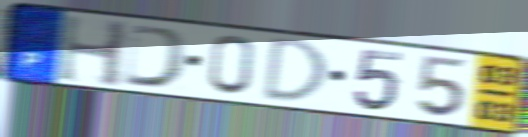0: (207, 34, 258, 97)
5: (351, 47, 407, 112), (416, 53, 468, 119)
D: (120, 22, 191, 91), (260, 36, 331, 104)
H: (55, 12, 132, 90)
